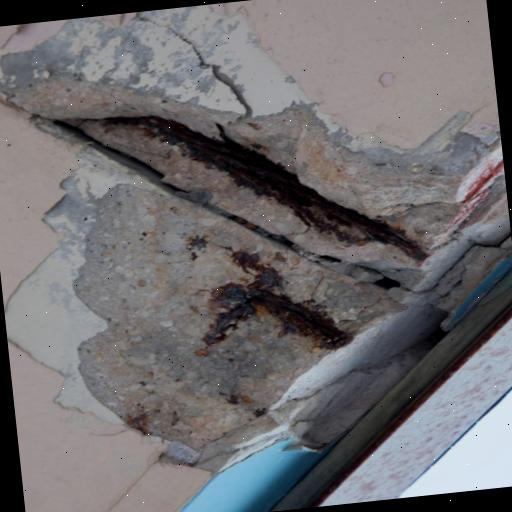spalling: (15, 79, 490, 474)
